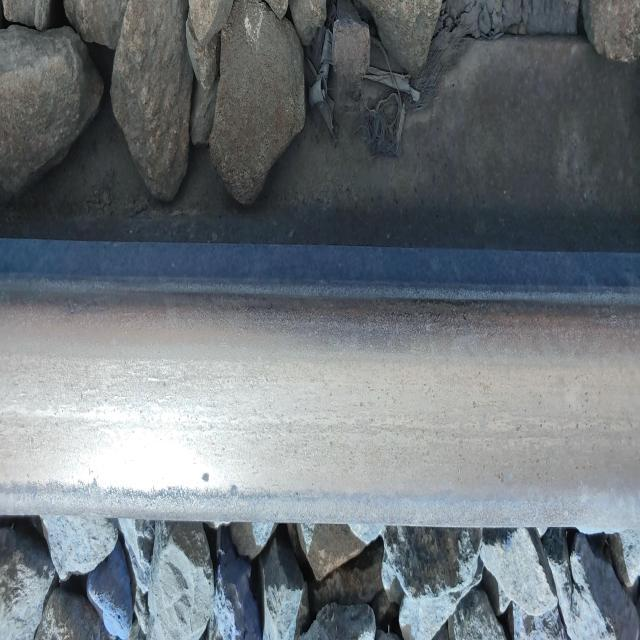head_checks_low: (228, 478, 240, 502), (201, 465, 211, 488)
